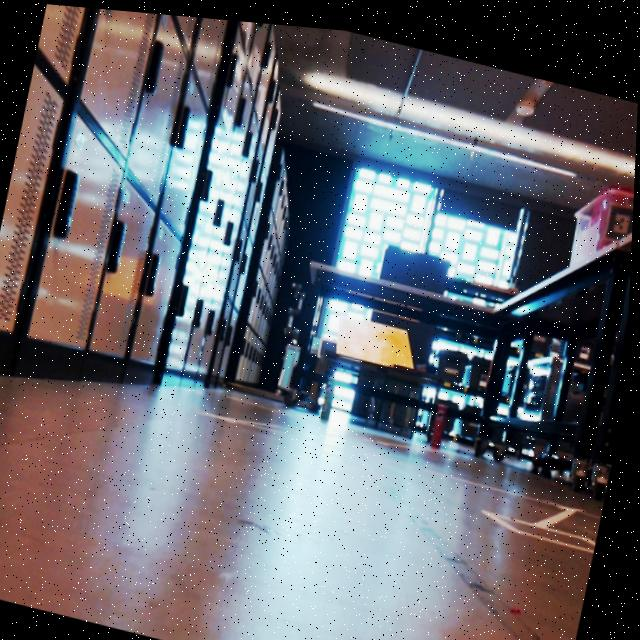greenpringles: (318, 362, 349, 422)
redpringles: (428, 385, 460, 444)
